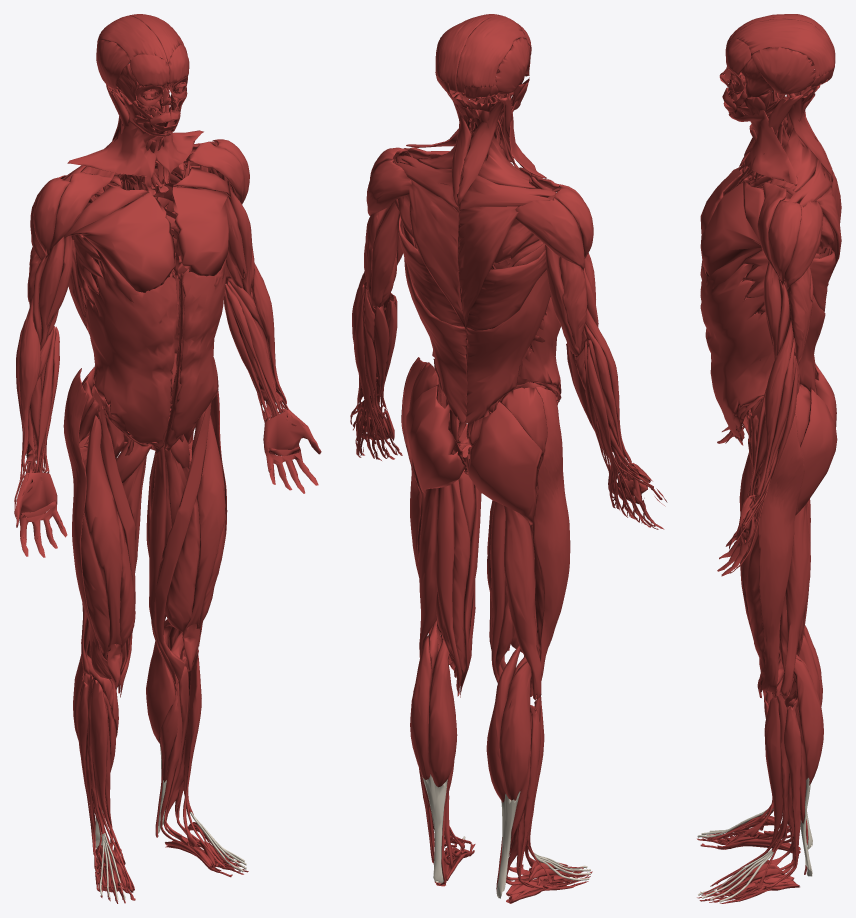
File: muscles.glb
The picture shows the model from 3 angles, left to right: view 1: azimuth 30°, elevation 25°; view 2: azimuth 150°, elevation 25°; view 3: azimuth 270°, elevation 25°; orthographic projection. The views are drawn at different scales.
Visible parts, largest first — view 1: mus-hip-thigh, mus-abdomen, mus-leg-foot, mus-chest, mus-forearm-hand, mus-head-neck, mus-shoulder-arm, mus-back; view 2: mus-hip-thigh, mus-back, mus-leg-foot, mus-shoulder-arm, mus-forearm-hand, mus-head-neck, mus-abdomen, mus-chest; view 3: mus-hip-thigh, mus-leg-foot, mus-head-neck, mus-abdomen, mus-shoulder-arm, mus-chest, mus-forearm-hand, mus-back.
Boxes of the visible parts, x1,y1,x2,y2 form: mus-hip-thigh: (63, 353, 227, 697); mus-abdomen: (84, 239, 225, 453); mus-leg-foot: (73, 619, 248, 903); mus-chest: (64, 160, 231, 335); mus-forearm-hand: (14, 263, 321, 890); mus-head-neck: (67, 14, 203, 195); mus-shoulder-arm: (27, 139, 266, 380); mus-back: (62, 107, 199, 329); mus-hip-thigh: (401, 357, 570, 700); mus-back: (397, 103, 555, 446); mus-leg-foot: (410, 621, 592, 903); mus-shoulder-arm: (364, 147, 598, 389); mus-forearm-hand: (350, 271, 667, 883); mus-head-neck: (406, 14, 546, 248); mus-abdomen: (432, 297, 561, 415); mus-chest: (414, 167, 552, 342); mus-hip-thigh: (739, 363, 837, 705); mus-leg-foot: (697, 625, 823, 903); mus-head-neck: (719, 14, 835, 195); mus-abdomen: (700, 261, 774, 445); mus-shoulder-arm: (757, 182, 834, 394); mus-chest: (700, 166, 829, 313); mus-forearm-hand: (717, 318, 798, 897); mus-back: (770, 93, 841, 394).
Bounding box in the file's own units: 0.65 × 1.71 × 0.2637.
